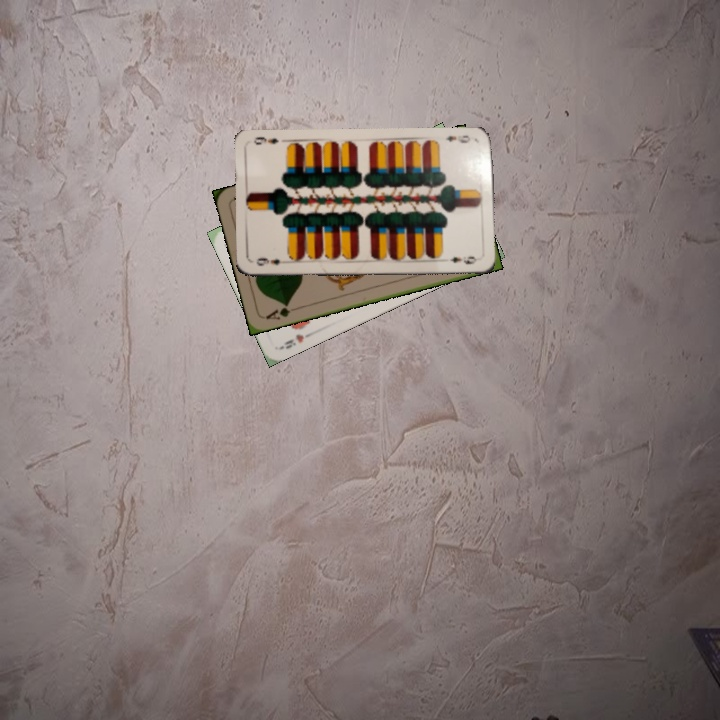E9: (252, 254, 291, 268), (442, 131, 472, 146)
GA: (262, 300, 301, 322)
H9: (276, 328, 315, 352)
